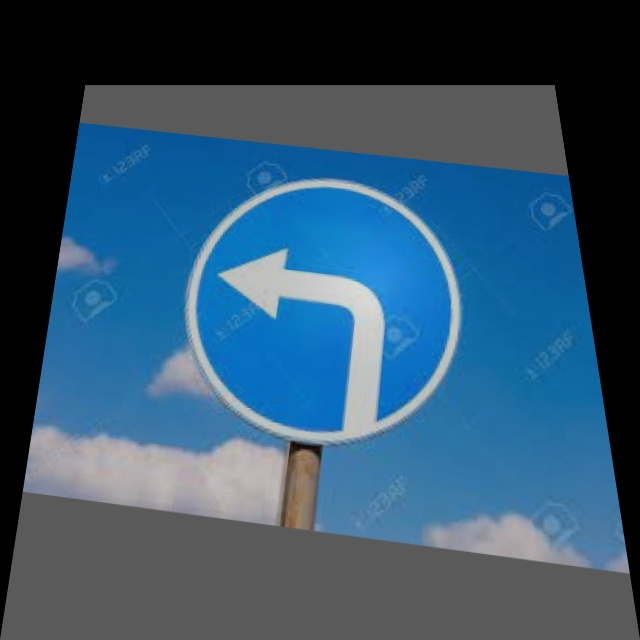Compulsory_Turn_Left_Ahead: (159, 168, 484, 449)
